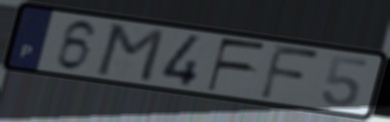4: (158, 33, 208, 89)
5: (320, 53, 370, 108)
6: (56, 18, 97, 72)
F: (257, 42, 323, 103), (205, 36, 270, 94)
M: (92, 22, 168, 85)
